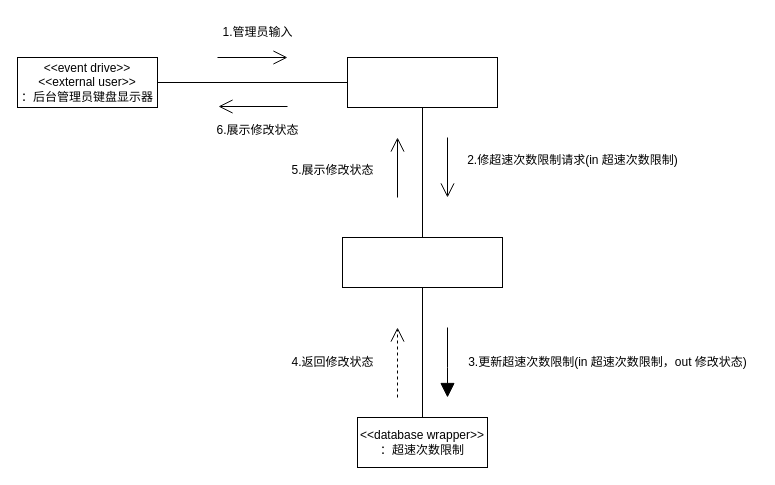
Some shapes in this 775 by 485 pixel diagram are drawn without their labels. Each missing label, with the box of its shape:
<<demand>> <<business logic>> ：调整超速次数限制业务逻辑: (342, 236, 502, 288)
<<event drive>> <<user interaction>> ：后台管理员用户交互: (346, 56, 498, 108)
